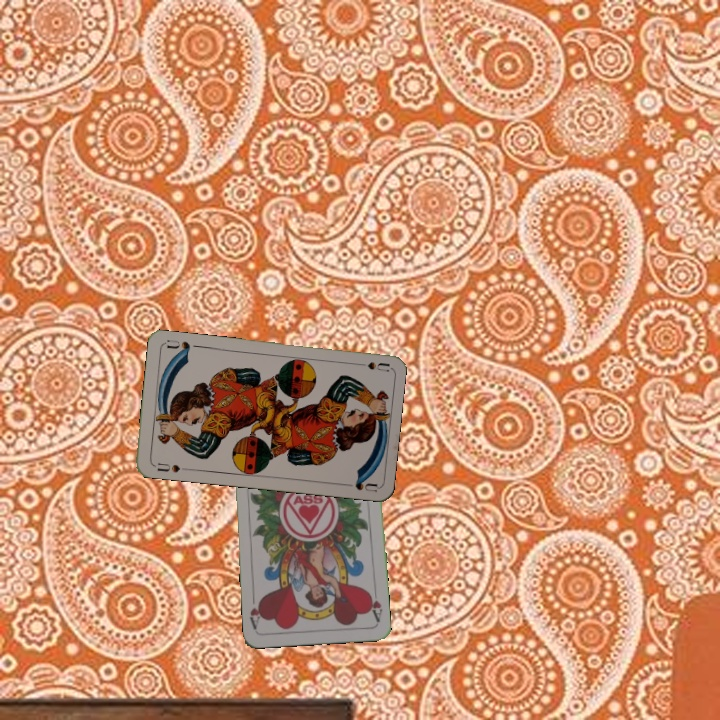HA: (364, 584, 385, 625)
SU: (350, 358, 391, 374), (150, 459, 190, 475)
